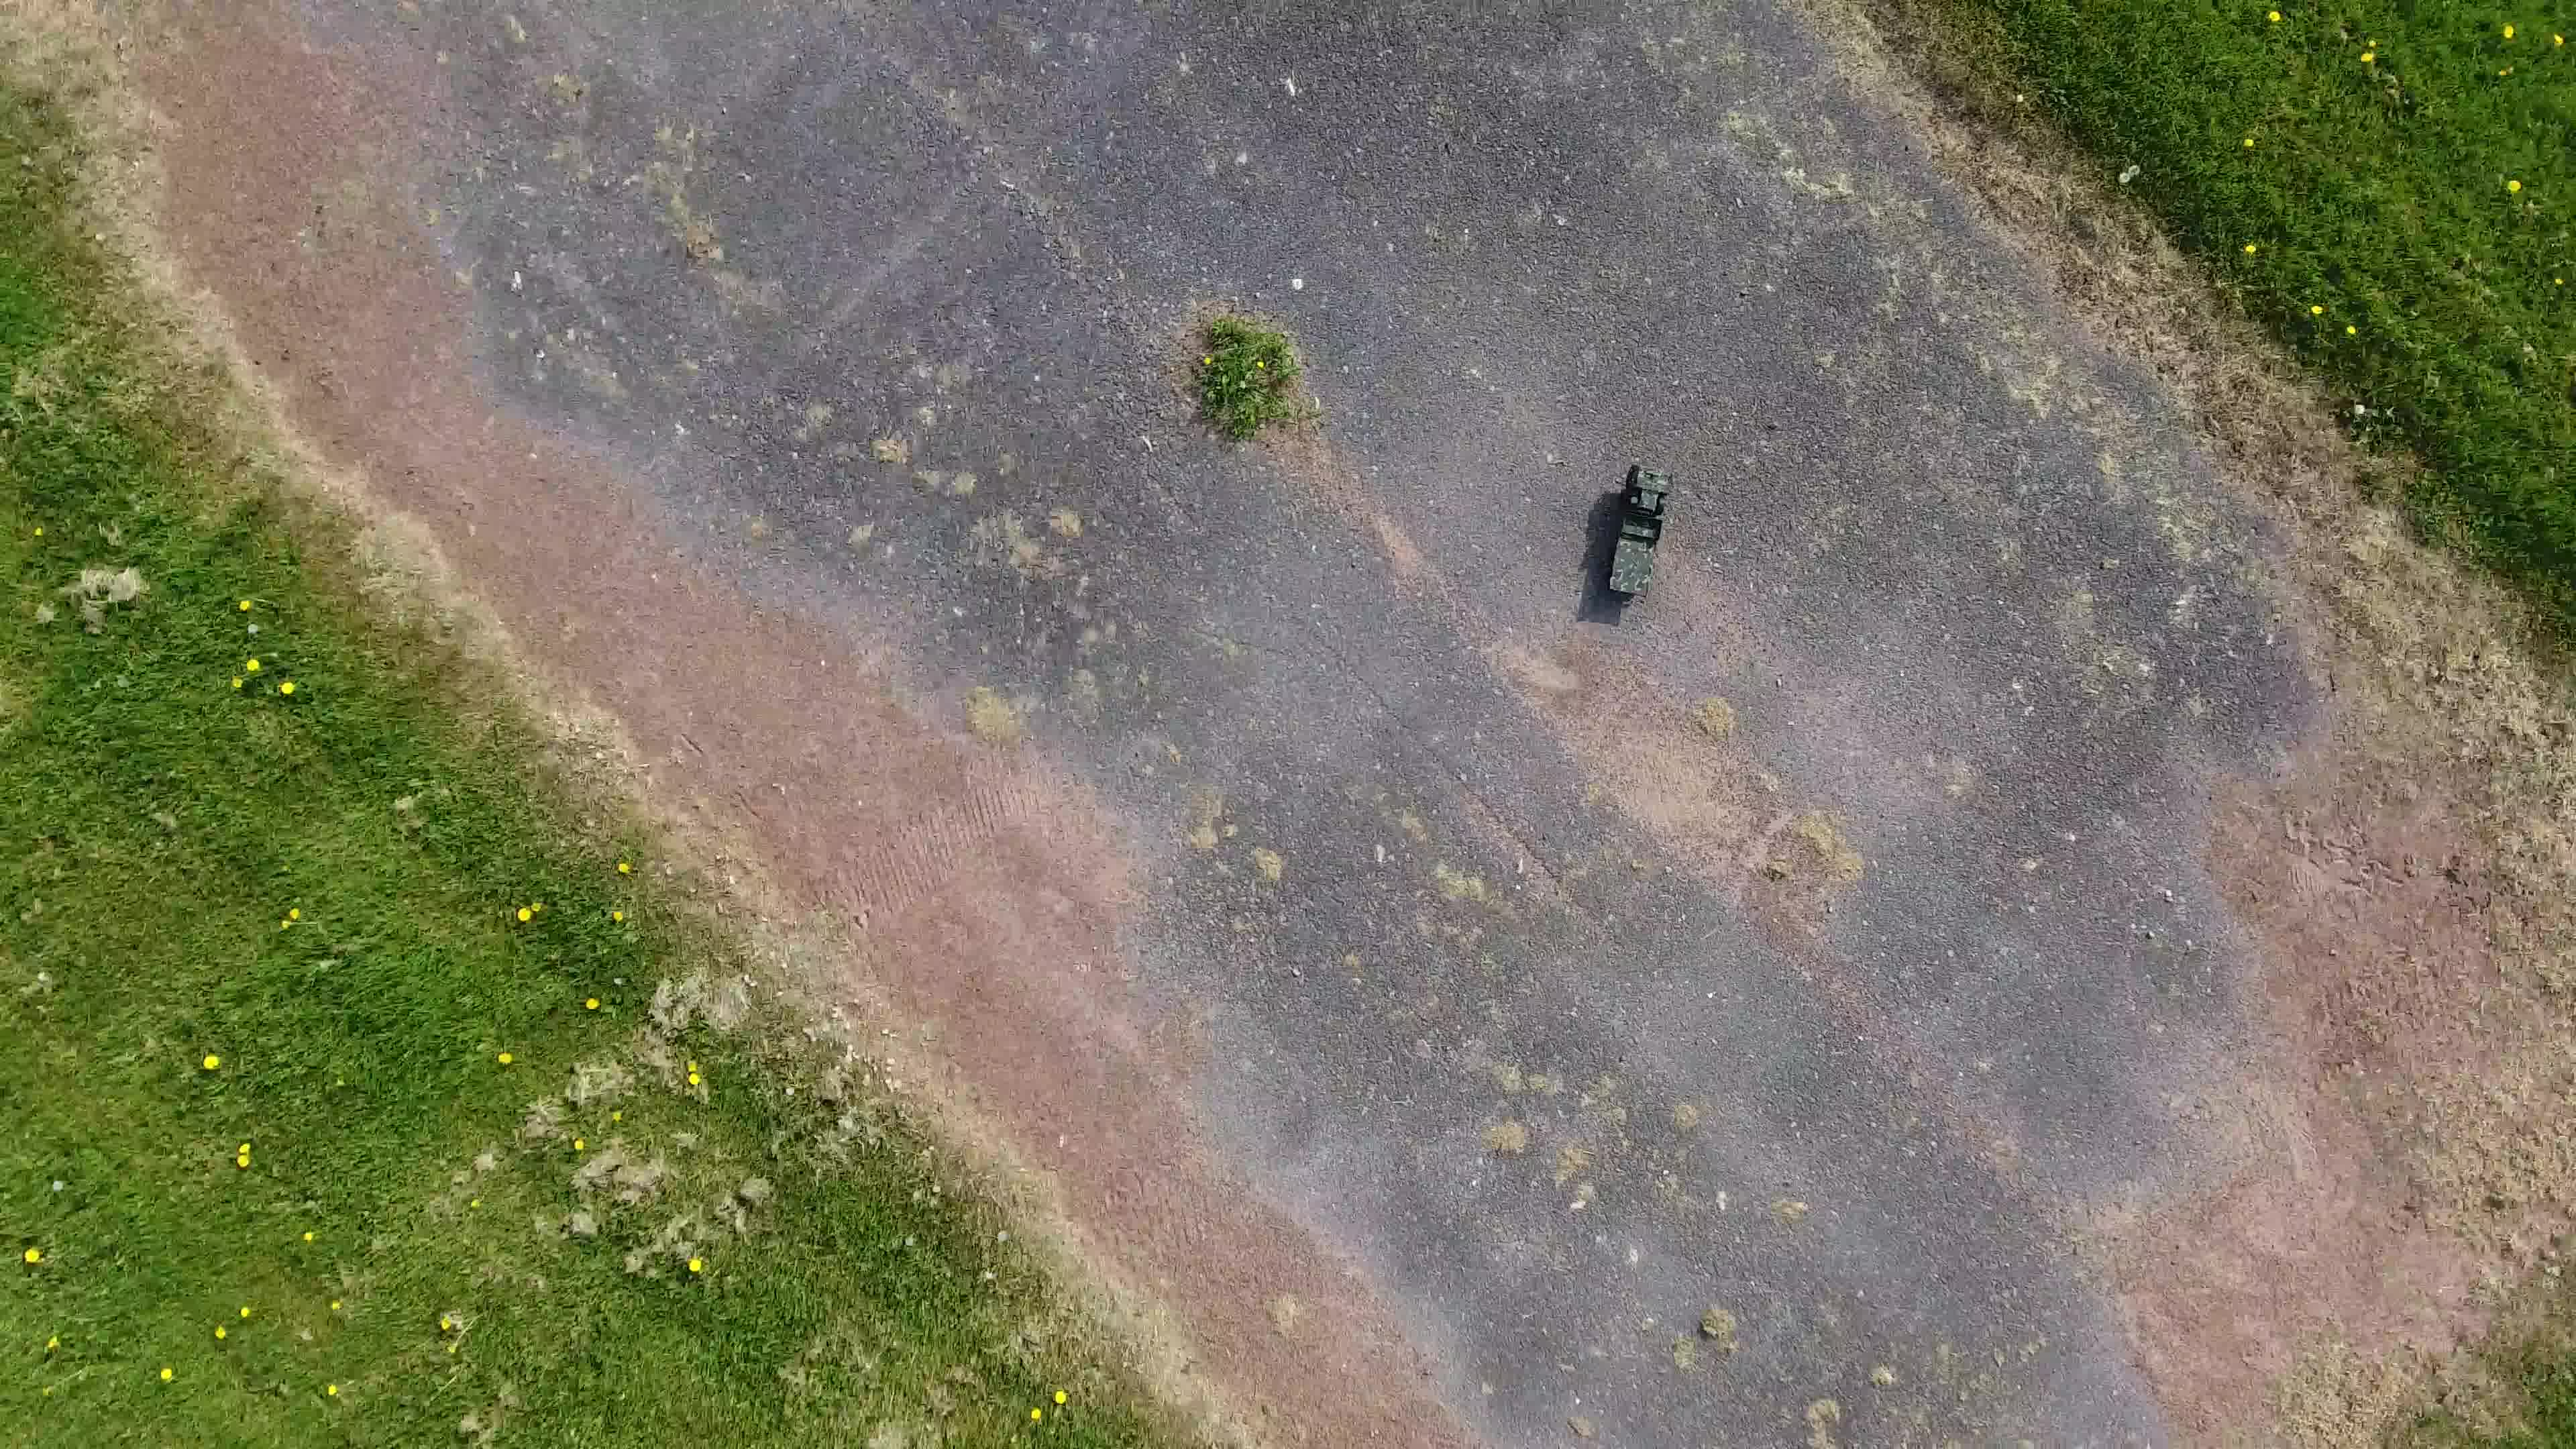transporter9: (1589, 460, 1679, 602)
